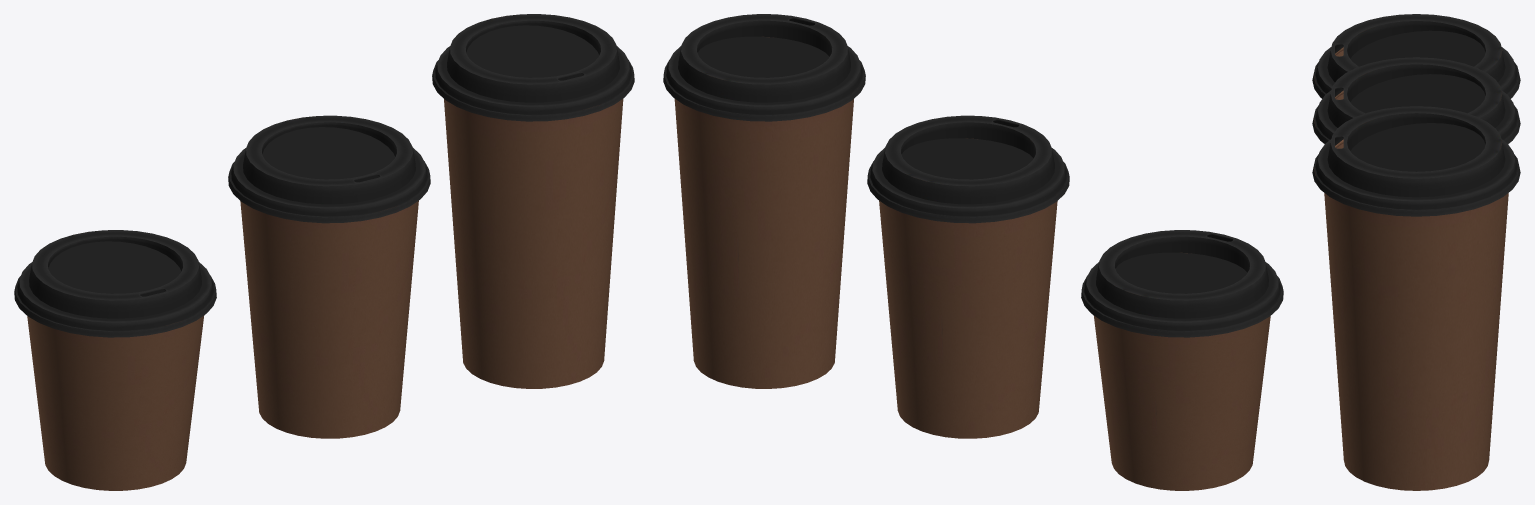
Rendered from Coffee_Cups.glb.
3 views of the same model, side by side, from view 1: azimuth 30°, elevation 25°; view 2: azimuth 150°, elevation 25°; view 3: azimuth 270°, elevation 25° (orthographic). The views are drawn at different scales.
Visible parts, largest first — view 1: Cup_3, Cup_2, Cup_1; view 2: Cup_3, Cup_2, Cup_1; view 3: Cup_3, Cup_2, Cup_1.
Boxes of the visible parts, box(x1,y1,x2,y2) form: Cup_3: box(432, 14, 634, 388); Cup_2: box(228, 115, 430, 438); Cup_1: box(14, 230, 216, 490); Cup_3: box(663, 14, 865, 388); Cup_2: box(867, 115, 1069, 438); Cup_1: box(1081, 230, 1283, 490); Cup_3: box(1312, 106, 1520, 490); Cup_2: box(1312, 57, 1520, 143); Cup_1: box(1312, 14, 1520, 98).
Bounding box in the file's own units: 116 × 58.09 × 34.48.
1 material, 1 textured.
